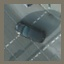car: (14, 19, 47, 44)
